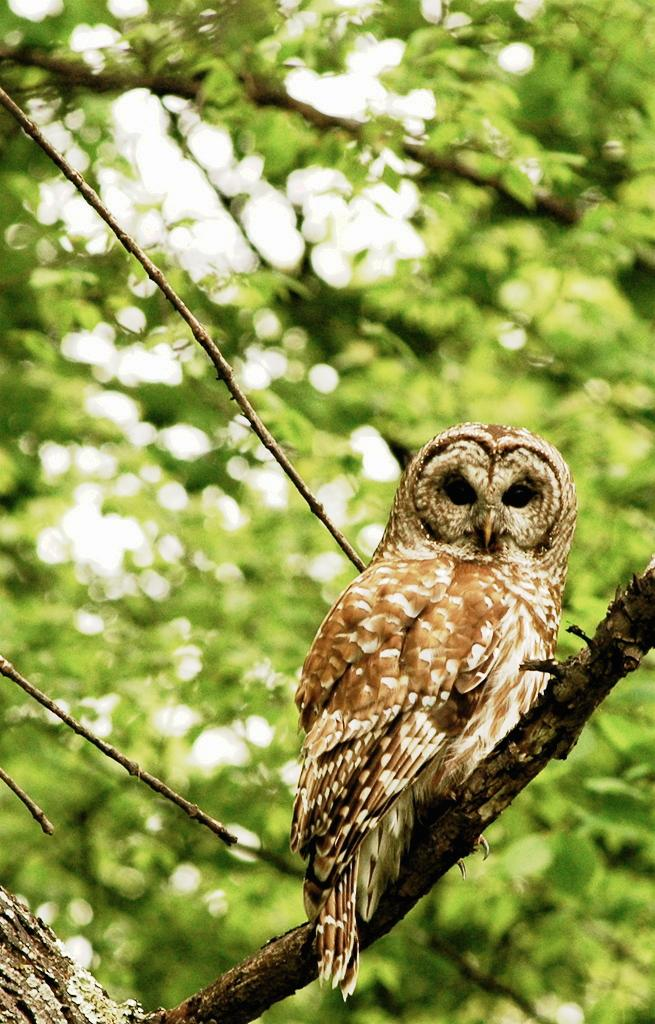Owl: (292, 421, 574, 1008)
